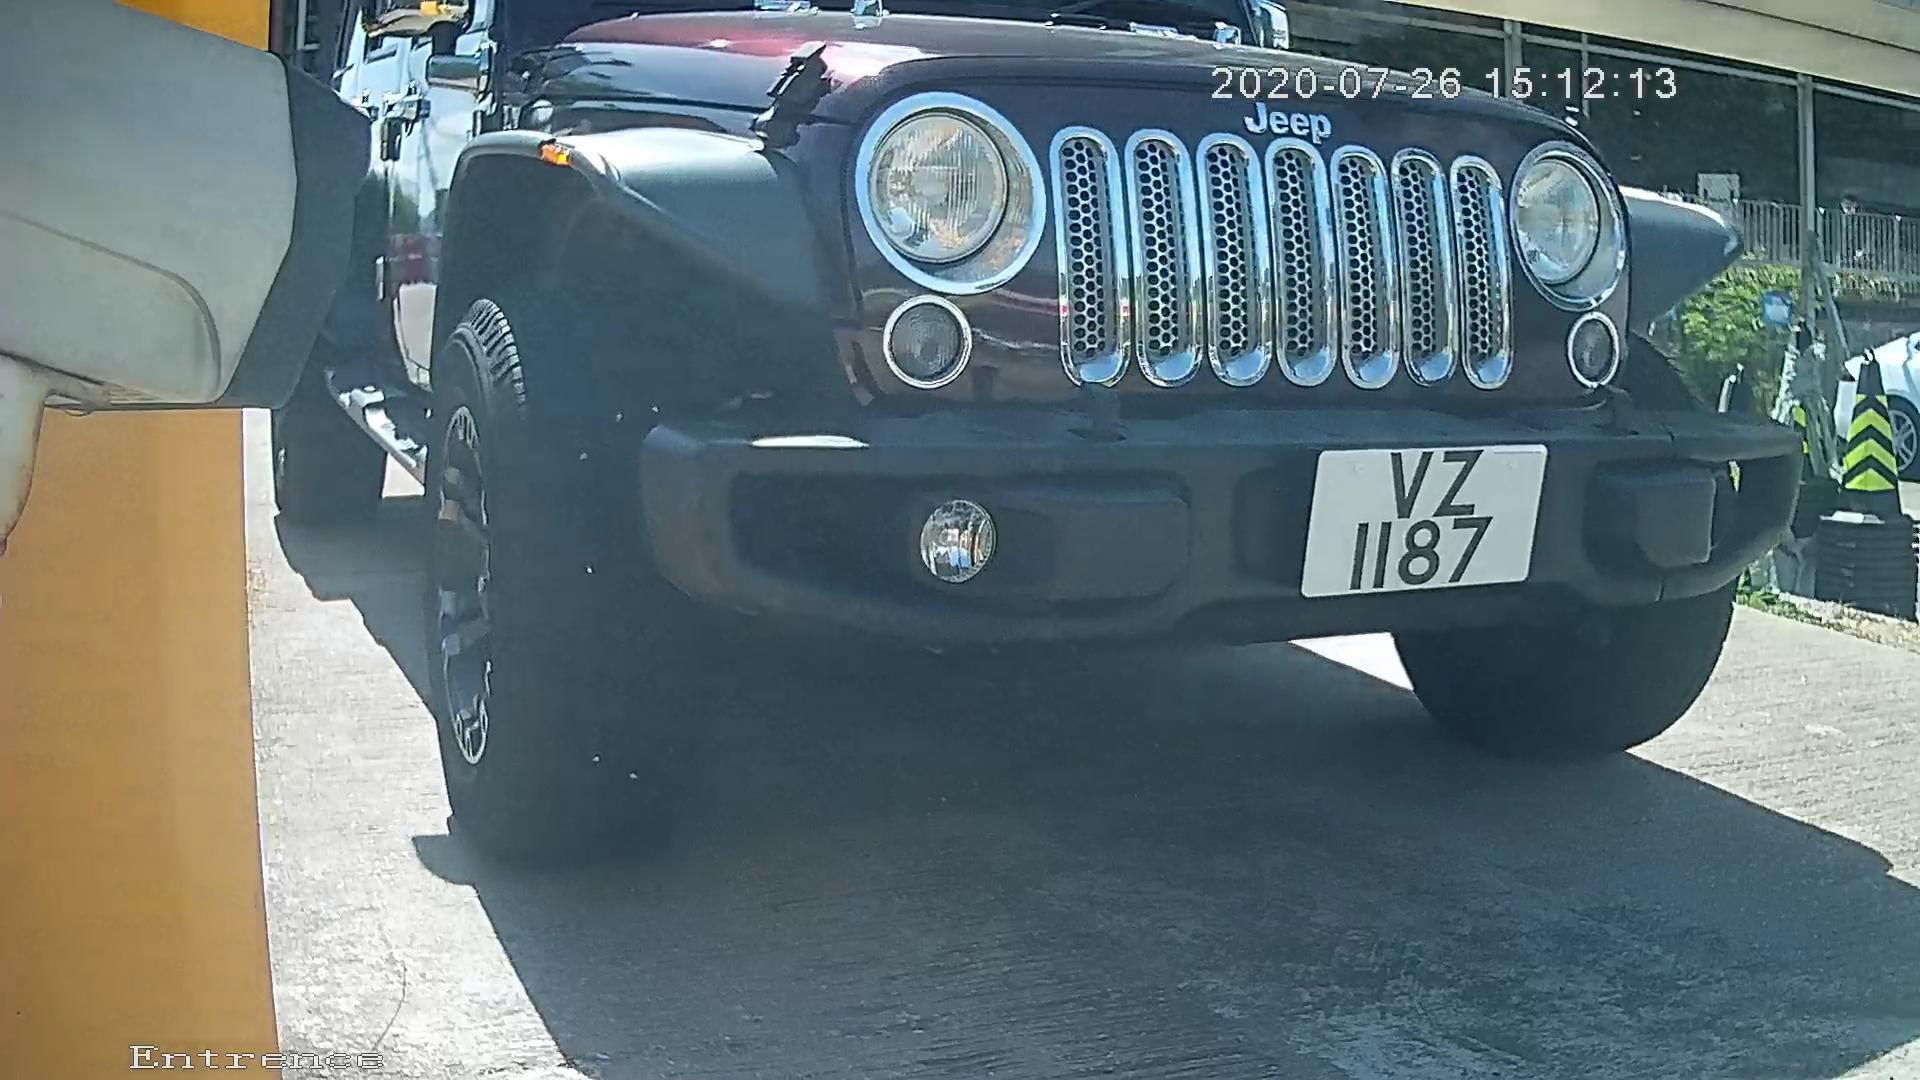privatecar: (266, 5, 1783, 878)
